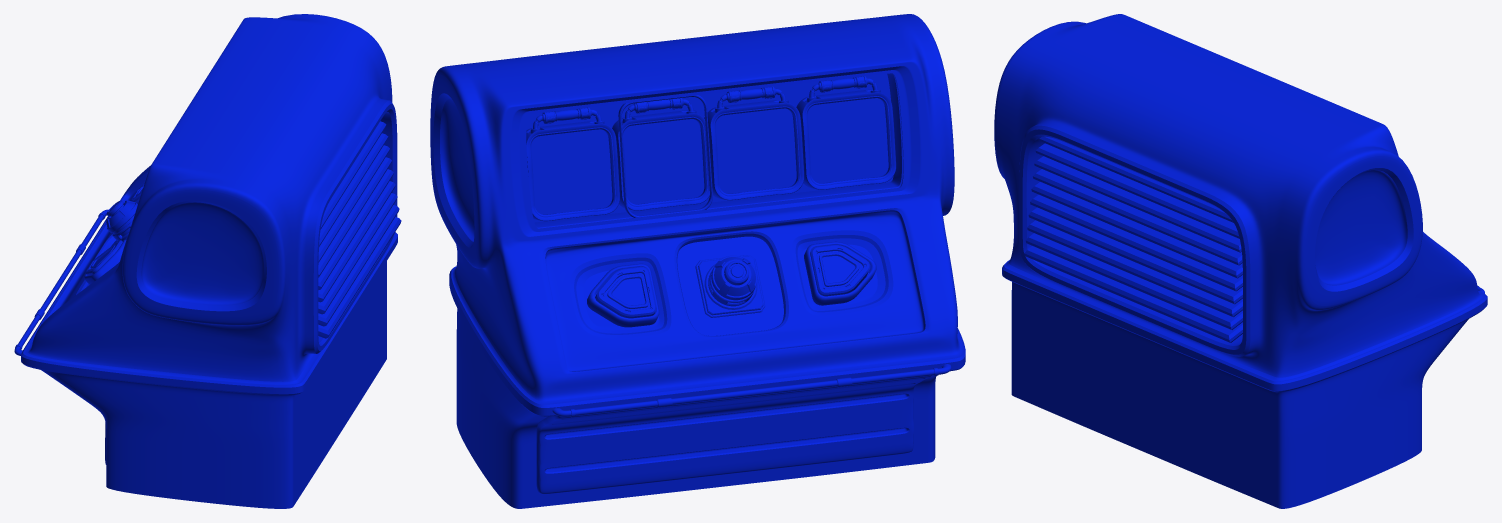
The model's file is Maquina4.fbx.
3 views of the same model, side by side, from view 1: azimuth 30°, elevation 25°; view 2: azimuth 150°, elevation 25°; view 3: azimuth 270°, elevation 25° (orthographic). The views are drawn at different scales.
Parts seen in each view (by area): view 1: Maquina2Base; view 2: Maquina2Base, Screen4_MK2, Screen3_MK2, Screen1_MK2, Screen2_MK2, Lights_MK2, LeftButton_MK2, RightButton_MK2, Selector_Mk2; view 3: Maquina2Base.
Part boxes in pixels (bbox=[...]): Maquina2Base: bbox=[14, 14, 401, 508]; Maquina2Base: bbox=[430, 14, 965, 508]; Screen4_MK2: bbox=[796, 89, 896, 189]; Screen3_MK2: bbox=[704, 100, 804, 200]; Screen1_MK2: bbox=[526, 121, 619, 221]; Screen2_MK2: bbox=[612, 110, 709, 210]; Lights_MK2: bbox=[530, 76, 880, 133]; LeftButton_MK2: bbox=[595, 266, 656, 318]; RightButton_MK2: bbox=[810, 245, 870, 296]; Selector_Mk2: bbox=[618, 95, 712, 217]; Maquina2Base: bbox=[994, 14, 1487, 508].
Bounding box in the file's own units: 159 × 120 × 159.
